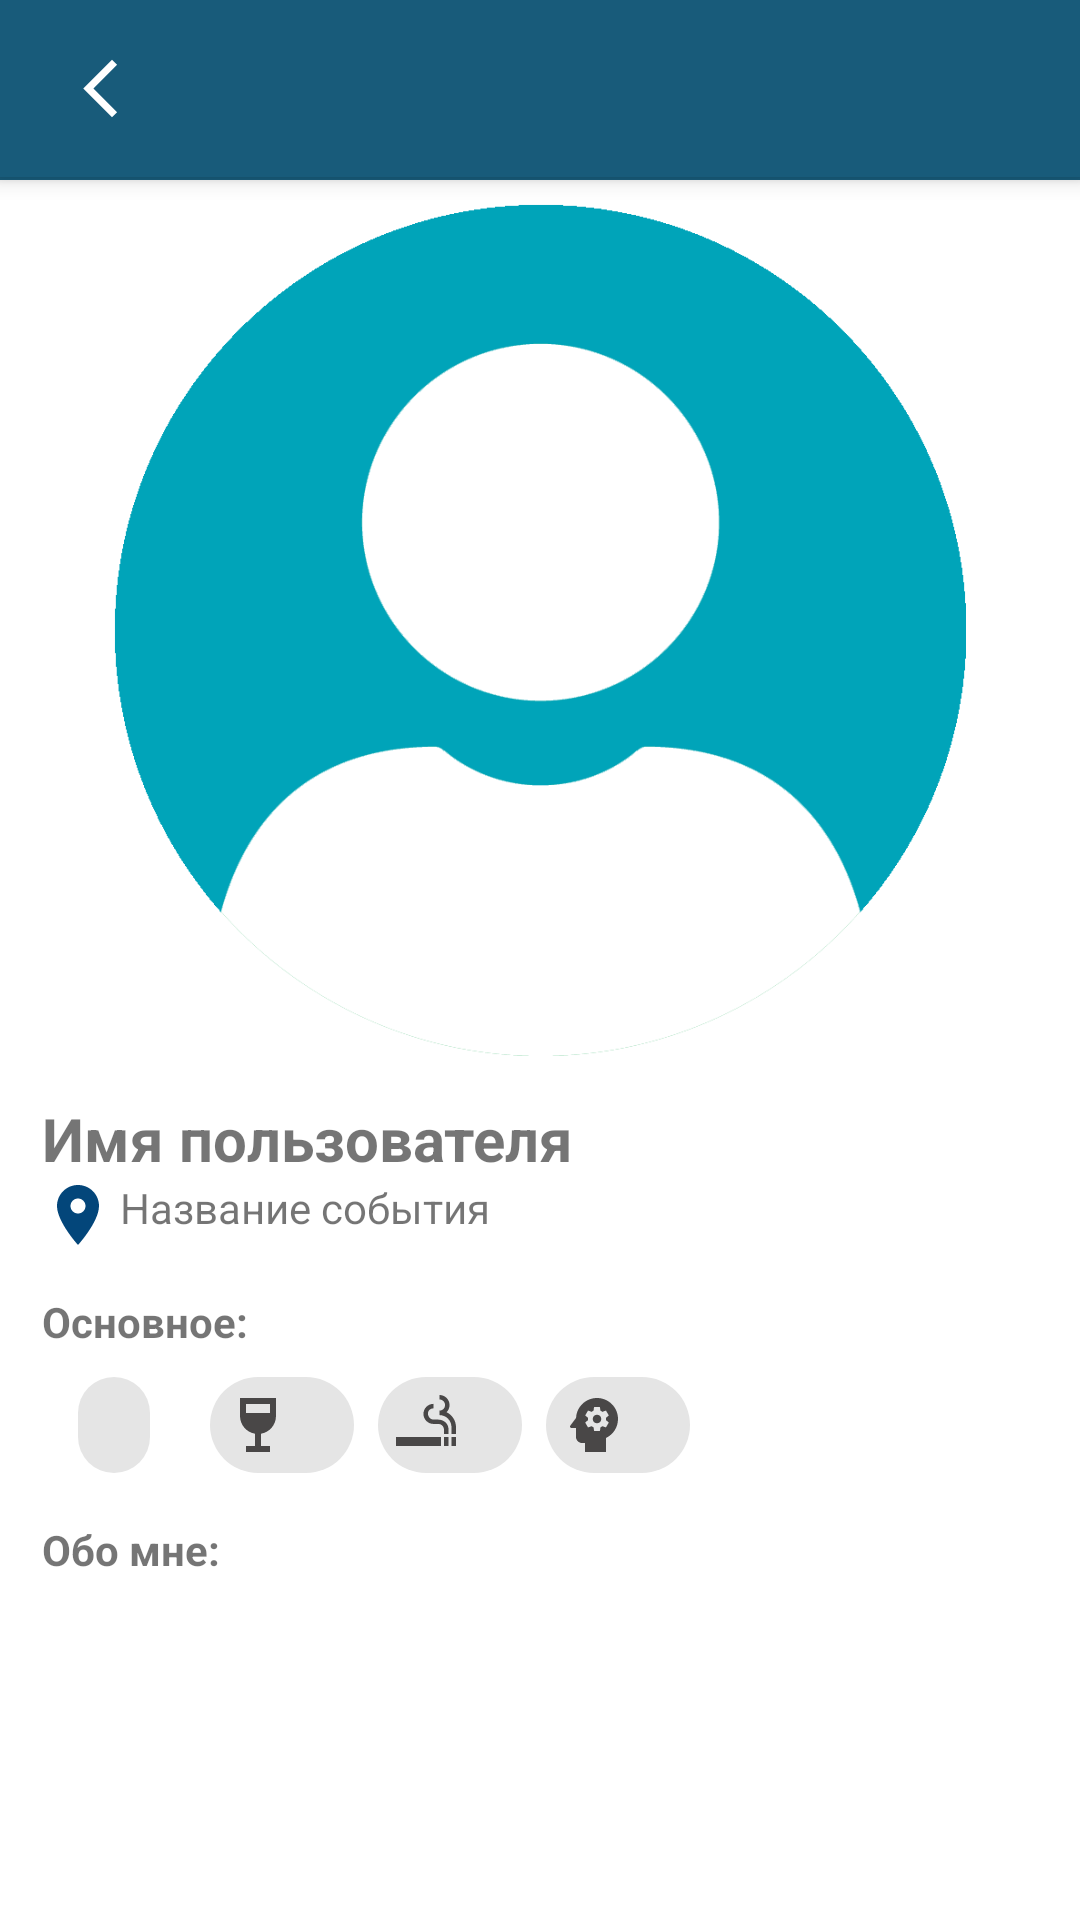

Icons on this 1080 x 1920 Android screen, each with the point to tap as (x,y):
arrow back chats: (100,88)
